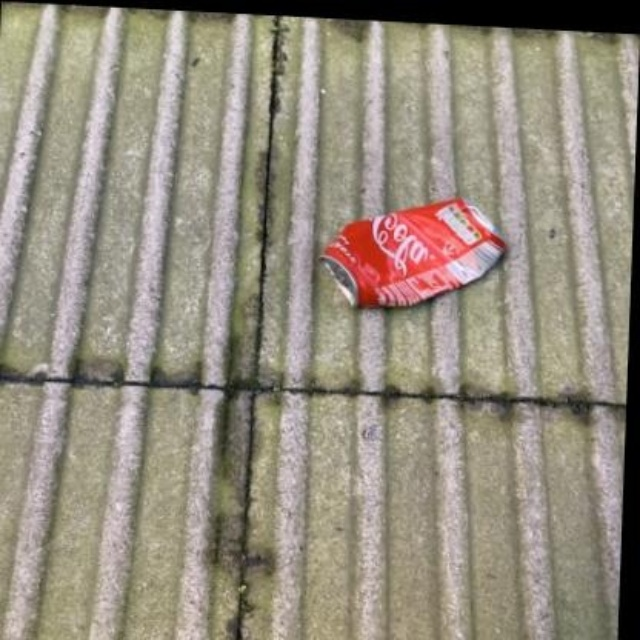trash: (320, 198, 505, 306)
